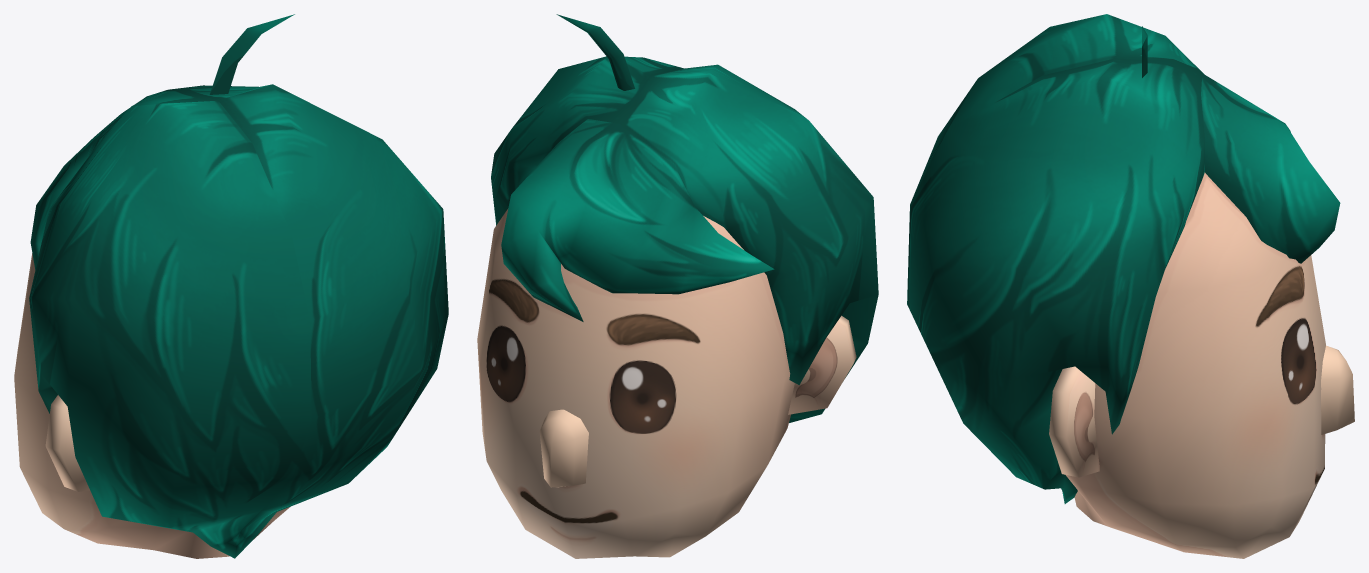
Rendered from curious_boy_head_5.glb.
3 views of the same model, side by side, from view 1: azimuth 30°, elevation 25°; view 2: azimuth 150°, elevation 25°; view 3: azimuth 270°, elevation 25° (orthographic). The views are drawn at different scales.
Visible parts, largest first — view 1: head; view 2: head; view 3: head.
Boxes of the visible parts, bbox=[...] form: head: bbox=[14, 14, 448, 558]; head: bbox=[477, 14, 878, 558]; head: bbox=[907, 14, 1354, 558].
Size of the model in its own units: 0.3505 by 0.4571 by 0.3464.
Materials: 2 (1 with a texture image).
